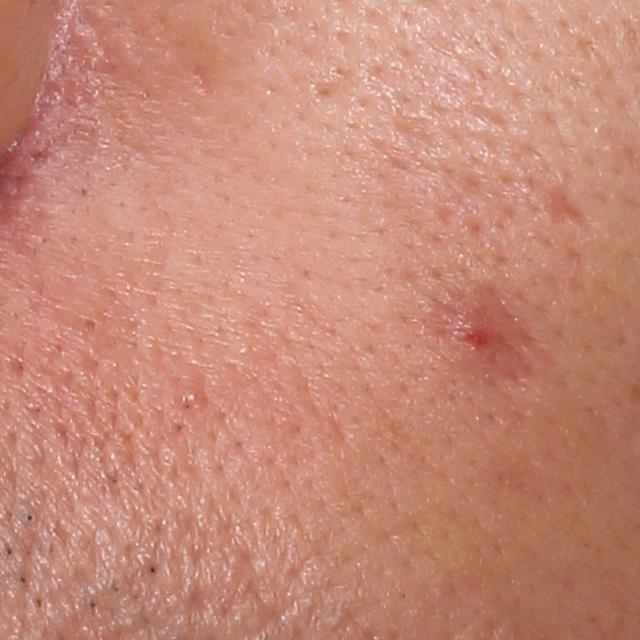atrophic_scar: (543, 183, 592, 232), (191, 62, 220, 99)
comedo: (76, 311, 104, 338)
papule: (450, 316, 492, 357)
